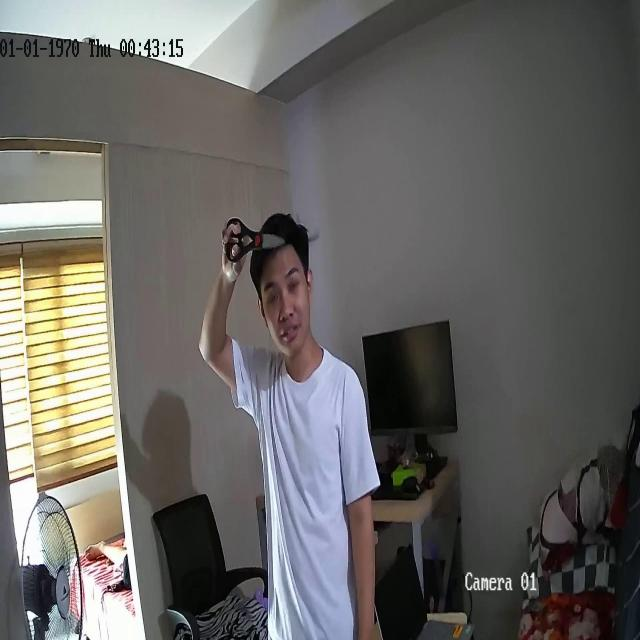scissor: (224, 218, 286, 264)
